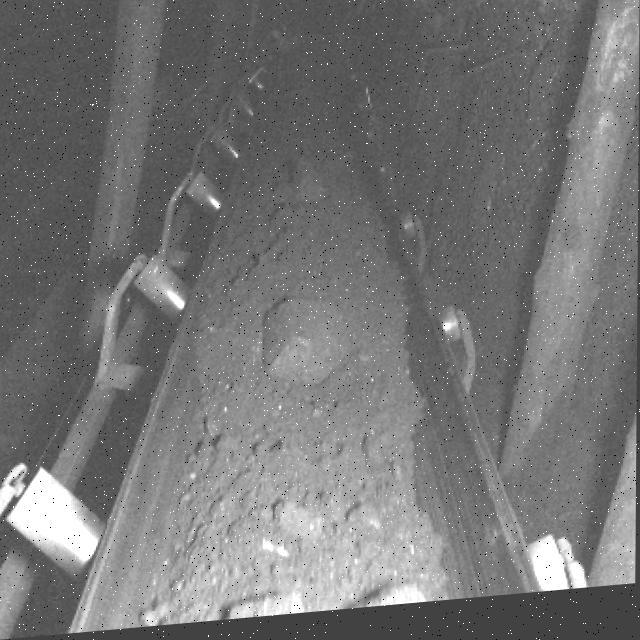large_sized_coal: (259, 300, 343, 402), (333, 584, 437, 616), (271, 504, 326, 546), (226, 597, 311, 624)
